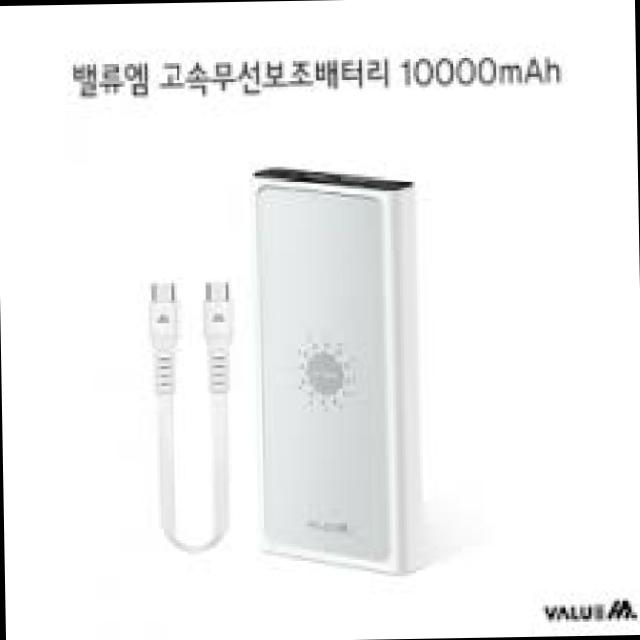portable-charger: (252, 160, 433, 582)
